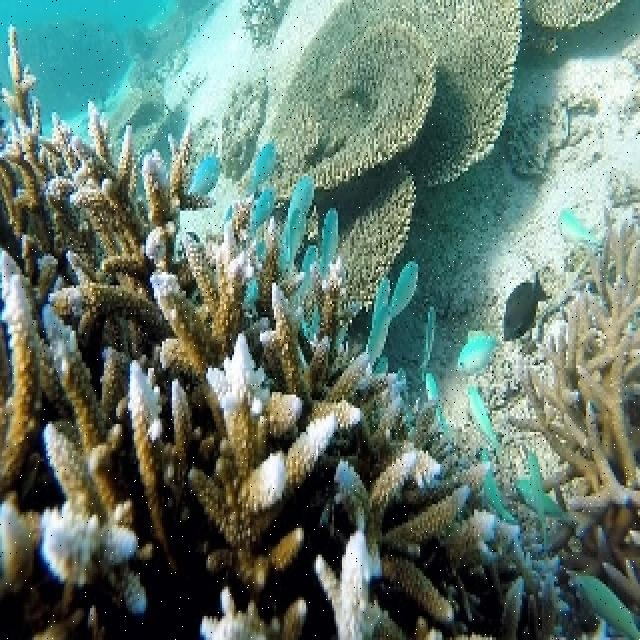fish: (574, 575, 638, 637), (503, 272, 551, 339), (280, 176, 316, 260), (508, 473, 560, 523), (478, 469, 519, 527), (457, 331, 508, 377), (382, 263, 420, 324), (365, 277, 390, 366), (468, 384, 501, 446), (427, 373, 459, 434), (242, 140, 277, 195), (313, 208, 338, 278), (557, 208, 601, 247), (246, 188, 277, 240), (185, 157, 225, 195), (281, 205, 303, 269), (419, 307, 435, 372), (526, 455, 547, 492), (303, 247, 318, 282)
reefs: (0, 25, 620, 637), (508, 212, 638, 611), (264, 0, 522, 190), (318, 162, 414, 319), (523, 0, 620, 27)
